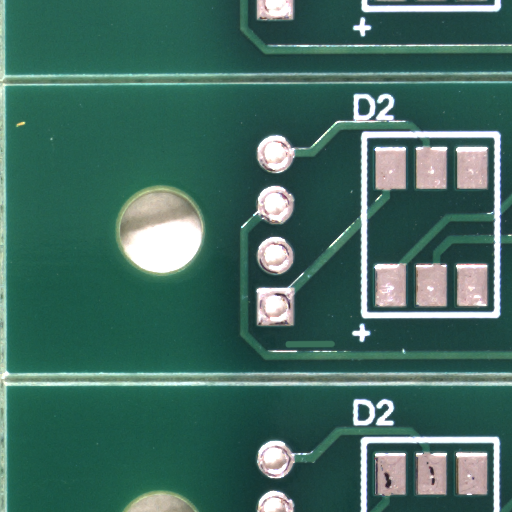Spurious_copper: (307, 344, 359, 357)
